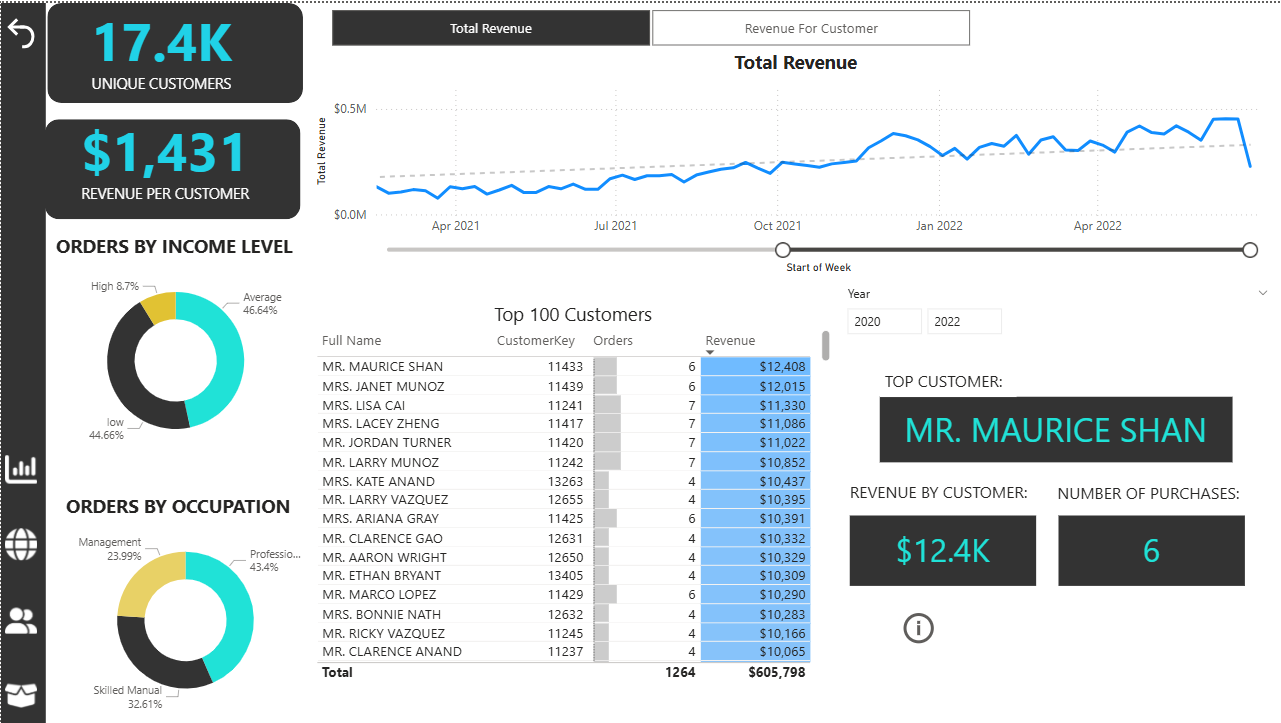

The page's visual inventory and layout, read from the dashboard file:
{"tool":"powerbi","page":{"name":"Customer Detail","canvas":[1280,720],"ordinal":3},"visuals":[{"type":"shape","box":[0,0,45,720],"z":0},{"type":"group","id":"g1","title":"KPI","box":[15.1,0,290.9,100.2],"z":1000},{"type":"actionButton","box":[0,446.3,45.2,40.4],"z":1000,"group":"g7"},{"type":"shape","box":[46.6,0,255.7,100],"z":2000,"group":"g3"},{"type":"group","id":"g2","title":"KPI","box":[19.2,109.8,290.9,105.7],"z":2000},{"type":"shape","box":[43.7,116,255.7,100],"z":2000,"group":"g4"},{"type":"actionButton","box":[0,521.7,45.2,40.4],"z":2000,"group":"g7"},{"type":"card","fields":{"Values":["Measure Table (2).Toatal Customers"]},"box":[15.1,0,291.2,91.2],"z":3000,"group":"g5"},{"type":"lineChart","fields":{"Y":["Measure Table (2).Total Revenue"],"Category":["Calendar Lookup.Date hirerchy.Start of Year","Calendar Lookup.Date hirerchy.Date","Calendar Lookup.Date hirerchy.Start of Month","Calendar Lookup.Date hirerchy.Start of Week"]},"box":[310.3,45.9,969.4,228.4],"z":3000},{"type":"card","fields":{"Values":["Measure Table (2).Average Revenue For Customer"]},"box":[19.2,109.8,291.2,91.2],"z":3000,"group":"g6"},{"type":"actionButton","box":[0,597.1,45.2,40.4],"z":3000,"group":"g7"},{"type":"group","id":"g3","title":"KPI Backgrounds","box":[46.6,0,255.7,100],"z":3500,"group":"g1"},{"type":"group","id":"g4","title":"KPI Backgrounds","box":[43.7,116,255.7,100],"z":3500,"group":"g2"},{"type":"donutChart","title":"ORDERS BY INCOME LEVEL","fields":{"Y":["Measure Table (2).Total orders"],"Category":["Customer Lookup.Income Level"]},"box":[49.4,230.5,249.7,230.5],"z":4000},{"type":"actionButton","box":[0,672.3,45.2,40.4],"z":4000,"group":"g7"},{"type":"donutChart","title":"ORDERS BY OCCUPATION","fields":{"Y":["Measure Table (2).Total orders"],"Category":["Customer Lookup.Occupation"]},"box":[59.9,490.4,249.5,229.9],"z":5000},{"type":"tableEx","title":"Top 100 Customers","fields":{"Values":["Customer Lookup.Full Name","Customer Lookup.CustomerKey","Measure Table (2).Total orders","Measure Table (2).Totoal Revenue"]},"box":[310,297.1,524.3,385.7],"z":6000},{"type":"group","id":"g5","title":"KPI VALUES","box":[15.1,0,291.2,91.2],"z":6001,"group":"g1"},{"type":"group","id":"g6","title":"KPI VALUES","box":[19.2,109.8,291.2,91.2],"z":6001,"group":"g2"},{"type":"card","fields":{"Values":["Min(Customer Lookup.Full Name)"]},"box":[878.6,394.3,352.9,65.7],"z":7000},{"type":"card","fields":{"Values":["Measure Table (2).Total orders"]},"box":[1057.5,512.5,186,70],"z":8000},{"type":"card","fields":{"Values":["Measure Table (2).Totoal Revenue"]},"box":[848.8,512.5,186.2,70],"z":9000},{"type":"textbox","box":[878.6,361.4,137.1,32.9],"z":10000},{"type":"textbox","box":[843.8,472.5,196.2,35],"z":11000},{"type":"textbox","box":[1051.2,473.8,201.2,33.8],"z":12000},{"type":"slicer","fields":{"Values":["Calendar Lookup.Year"]},"box":[834.3,277.1,445.7,82.9],"z":13000},{"type":"actionButton","box":[897.6,605.3,50.1,40.4],"z":14000},{"type":"actionButton","box":[0,9.8,53.8,40.4],"z":15000},{"type":"group","id":"g7","title":"Navigation buttons","box":[0,446.3,44,265.4],"z":16000},{"type":"slicer","fields":{"Values":["Customer Metric Selection .Customer Metric Selection "]},"box":[305.1,0,688.3,49.2],"z":17000}]}

Visuals, with their boxes on the page's 1280x720 design canvas (x1, y1, x2, y2). These are canvas units, not pixel positions in the 1281x723 screenshot, which may show the page scaled, cropped or inside an application window:
shape: {"left": 0, "top": 0, "right": 45, "bottom": 720}
"KPI" group: {"left": 15, "top": 0, "right": 306, "bottom": 100}
actionButton: {"left": 0, "top": 446, "right": 45, "bottom": 487}
shape: {"left": 47, "top": 0, "right": 302, "bottom": 100}
"KPI" group: {"left": 19, "top": 110, "right": 310, "bottom": 216}
shape: {"left": 44, "top": 116, "right": 299, "bottom": 216}
actionButton: {"left": 0, "top": 522, "right": 45, "bottom": 562}
card - Measure Table (2).Toatal Customers: {"left": 15, "top": 0, "right": 306, "bottom": 91}
lineChart - Measure Table (2).Total Revenue x Calendar Lookup.Date hirerchy.Start of Year: {"left": 310, "top": 46, "right": 1280, "bottom": 274}
card - Measure Table (2).Average Revenue For Customer: {"left": 19, "top": 110, "right": 310, "bottom": 201}
actionButton: {"left": 0, "top": 597, "right": 45, "bottom": 638}
"KPI Backgrounds" group: {"left": 47, "top": 0, "right": 302, "bottom": 100}
"KPI Backgrounds" group: {"left": 44, "top": 116, "right": 299, "bottom": 216}
"ORDERS BY INCOME LEVEL" donutChart: {"left": 49, "top": 230, "right": 299, "bottom": 461}
actionButton: {"left": 0, "top": 672, "right": 45, "bottom": 713}
"ORDERS BY OCCUPATION" donutChart: {"left": 60, "top": 490, "right": 309, "bottom": 720}
"Top 100 Customers" tableEx: {"left": 310, "top": 297, "right": 834, "bottom": 683}
"KPI VALUES" group: {"left": 15, "top": 0, "right": 306, "bottom": 91}
"KPI VALUES" group: {"left": 19, "top": 110, "right": 310, "bottom": 201}
card - Min(Customer Lookup.Full Name): {"left": 879, "top": 394, "right": 1232, "bottom": 460}
card - Measure Table (2).Total orders: {"left": 1058, "top": 512, "right": 1244, "bottom": 582}
card - Measure Table (2).Totoal Revenue: {"left": 849, "top": 512, "right": 1035, "bottom": 582}
textbox: {"left": 879, "top": 361, "right": 1016, "bottom": 394}
textbox: {"left": 844, "top": 472, "right": 1040, "bottom": 508}
textbox: {"left": 1051, "top": 474, "right": 1252, "bottom": 508}
slicer - Calendar Lookup.Year: {"left": 834, "top": 277, "right": 1280, "bottom": 360}
actionButton: {"left": 898, "top": 605, "right": 948, "bottom": 646}
actionButton: {"left": 0, "top": 10, "right": 54, "bottom": 50}
"Navigation buttons" group: {"left": 0, "top": 446, "right": 44, "bottom": 712}
slicer - Customer Metric Selection .Customer Metric Selection : {"left": 305, "top": 0, "right": 993, "bottom": 49}
